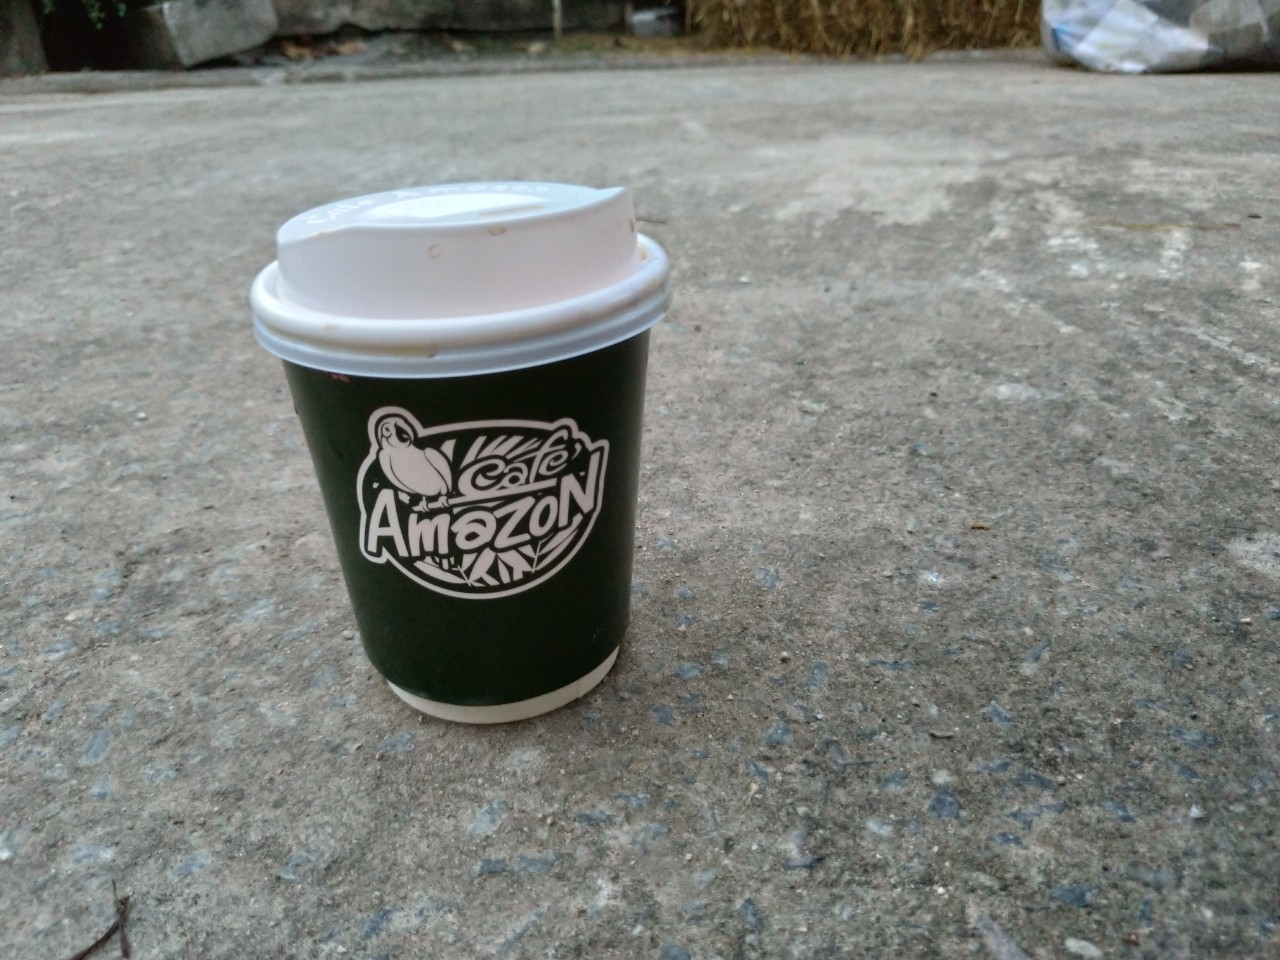PaperCup: (247, 179, 671, 724)
